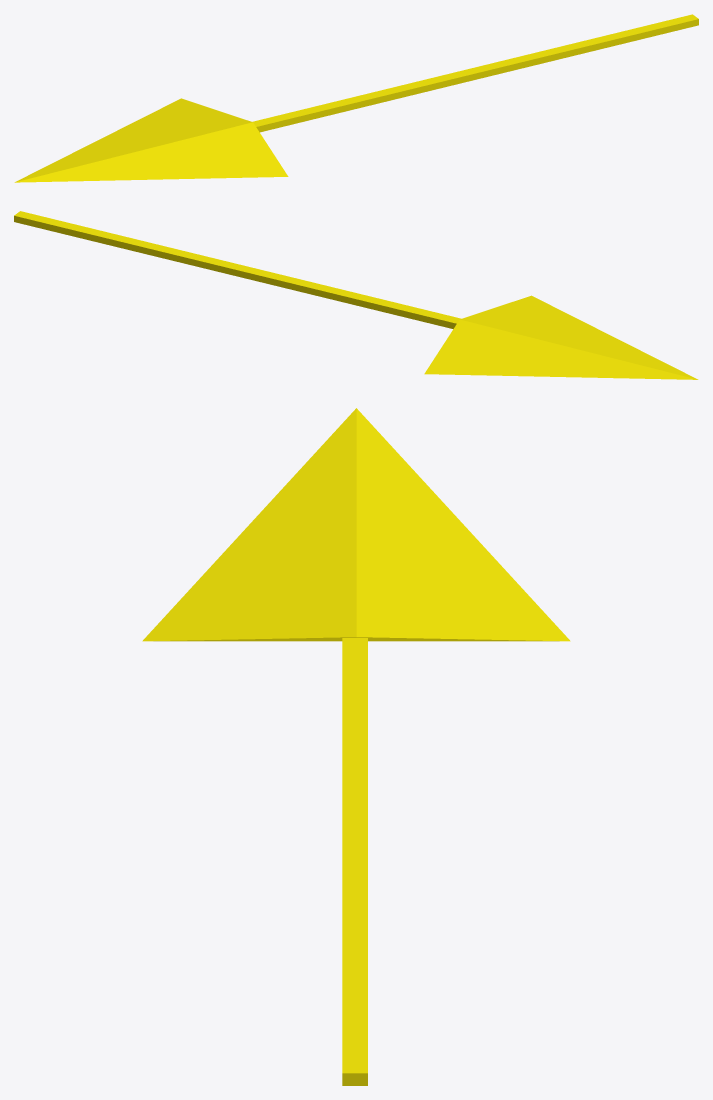
File: SETA AMARELA FRENTE.fbx
The picture shows the model from 3 angles, top to bottom: view 1: azimuth 30°, elevation 25°; view 2: azimuth 150°, elevation 25°; view 3: azimuth 270°, elevation 25°; orthographic projection. The views are drawn at different scales.
Parts seen in each view (by area): view 1: pCone1, pCube1; view 2: pCone1, pCube1; view 3: pCone1, pCube1.
Boxes of the visible parts, left/top/right/bottom form: pCone1: left=14, top=98, right=288, bottom=182; pCube1: left=252, top=14, right=698, bottom=132; pCone1: left=424, top=295, right=698, bottom=379; pCube1: left=14, top=211, right=461, bottom=328; pCone1: left=142, top=408, right=570, bottom=641; pCube1: left=342, top=638, right=367, bottom=1085.
Bounding box in the file's own units: 6.35 × 0.0976 × 1.73.
1 material, 1 textured.
